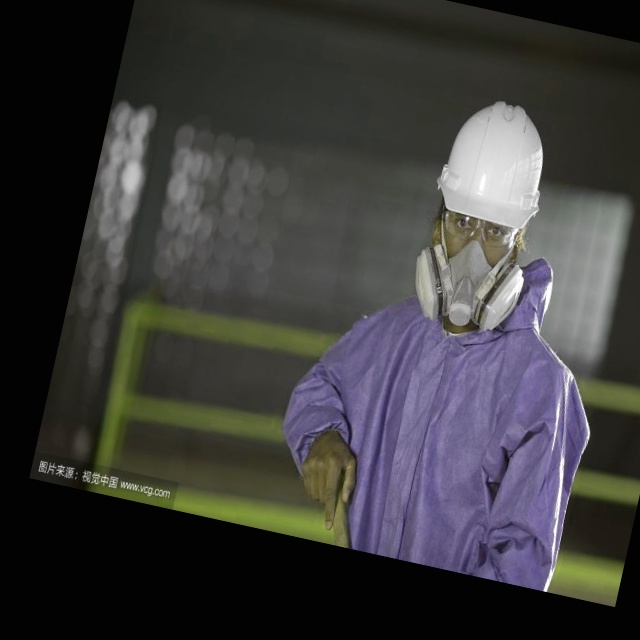Con_Casco: (421, 88, 558, 271)
